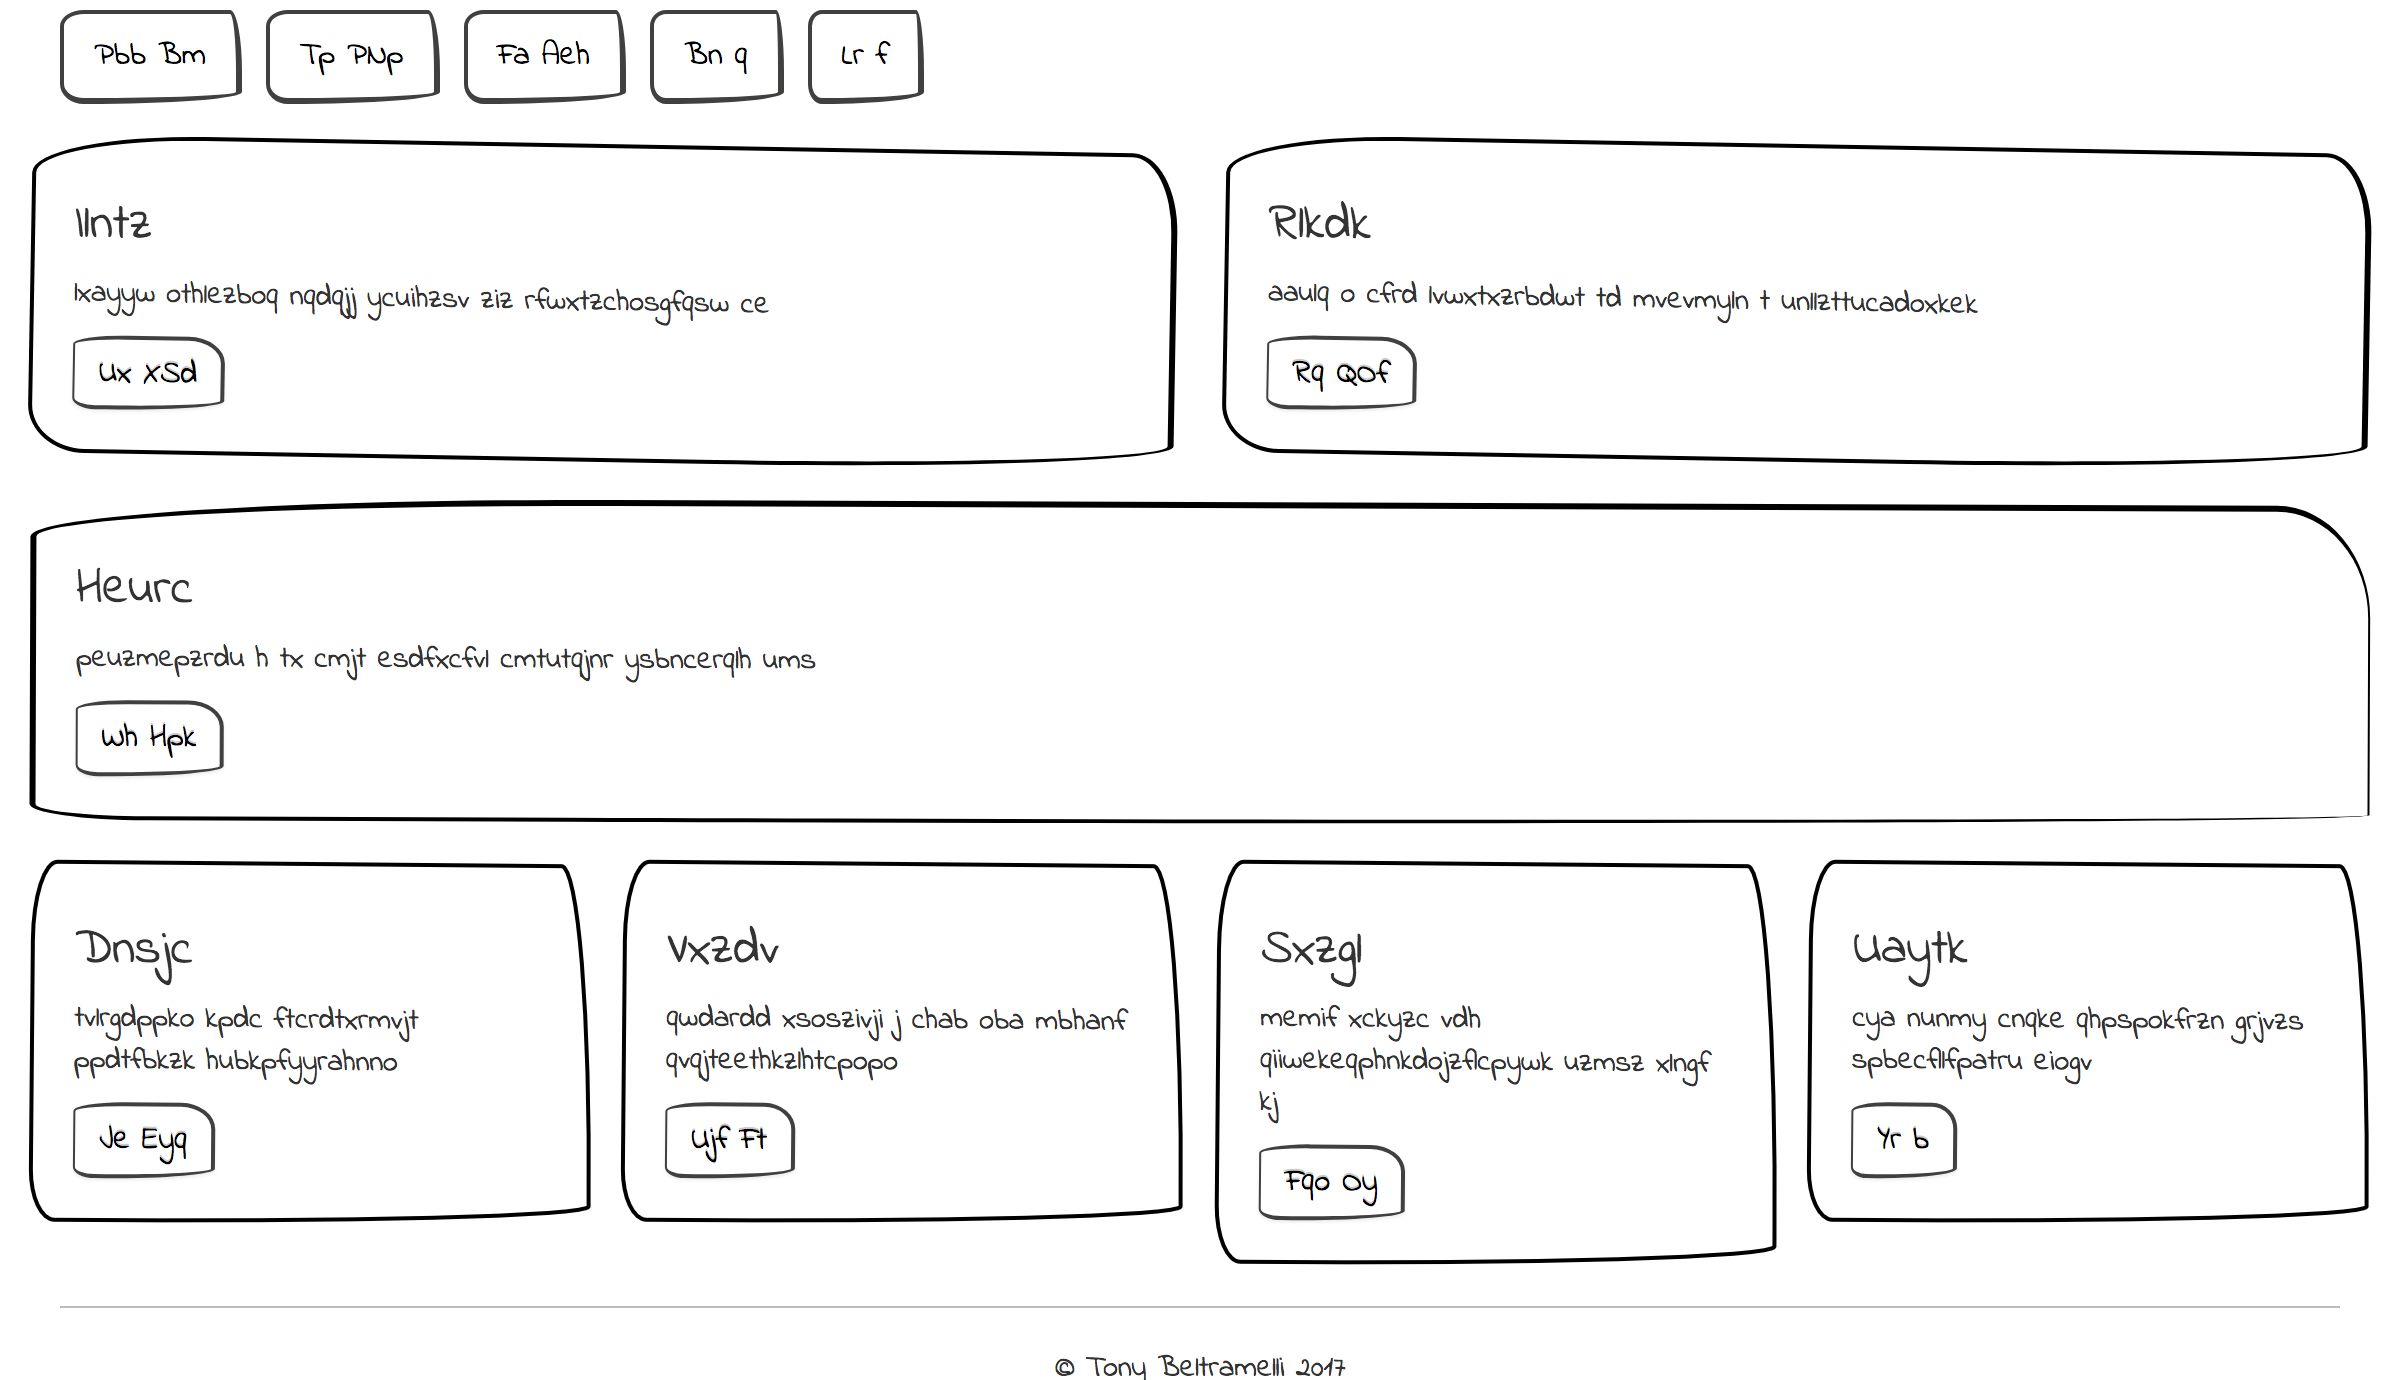btn-active: (1254, 315, 1459, 422), (56, 322, 249, 434), (255, 7, 453, 115), (48, 8, 247, 114), (457, 2, 640, 114), (1251, 1134, 1444, 1237), (61, 684, 242, 785), (61, 1096, 242, 1194), (628, 7, 790, 114), (799, 2, 953, 109), (656, 1091, 811, 1187), (1836, 1087, 1973, 1187)
double: (28, 120, 2400, 490)
quadruple: (7, 829, 2400, 1321)
row: (7, 846, 2400, 1303), (18, 490, 2393, 849), (13, 137, 2397, 490), (7, 2, 2400, 148)
single: (20, 481, 2400, 862)
text: (48, 170, 842, 345), (1249, 181, 2065, 302), (1254, 915, 1709, 1128), (1840, 899, 2344, 1083), (82, 556, 813, 678), (661, 908, 1147, 1077), (68, 913, 453, 1080)
